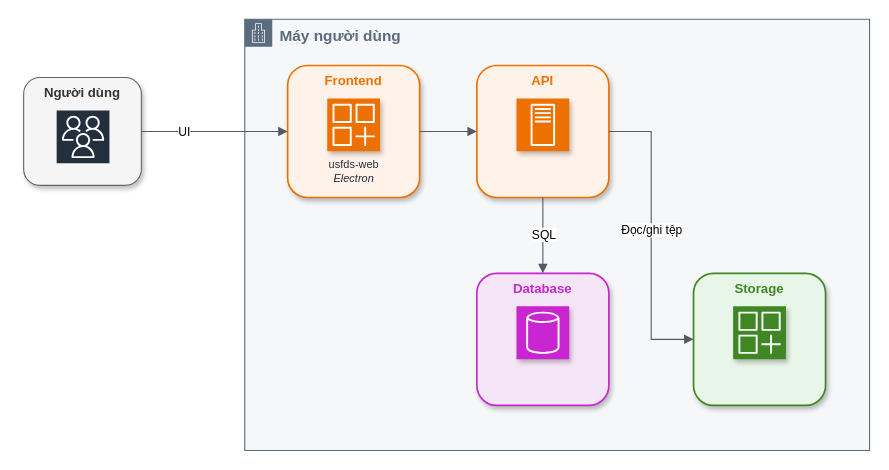
The diagram is 889 pixels wide and 470 high, and some of its shapes have lost their labels. The centre of each missing label's shape, as x and y in pixels:
Local file system: [760,334]
SQLite: [543,334]
usfds-server FastAPI, in-process: [543,126]
